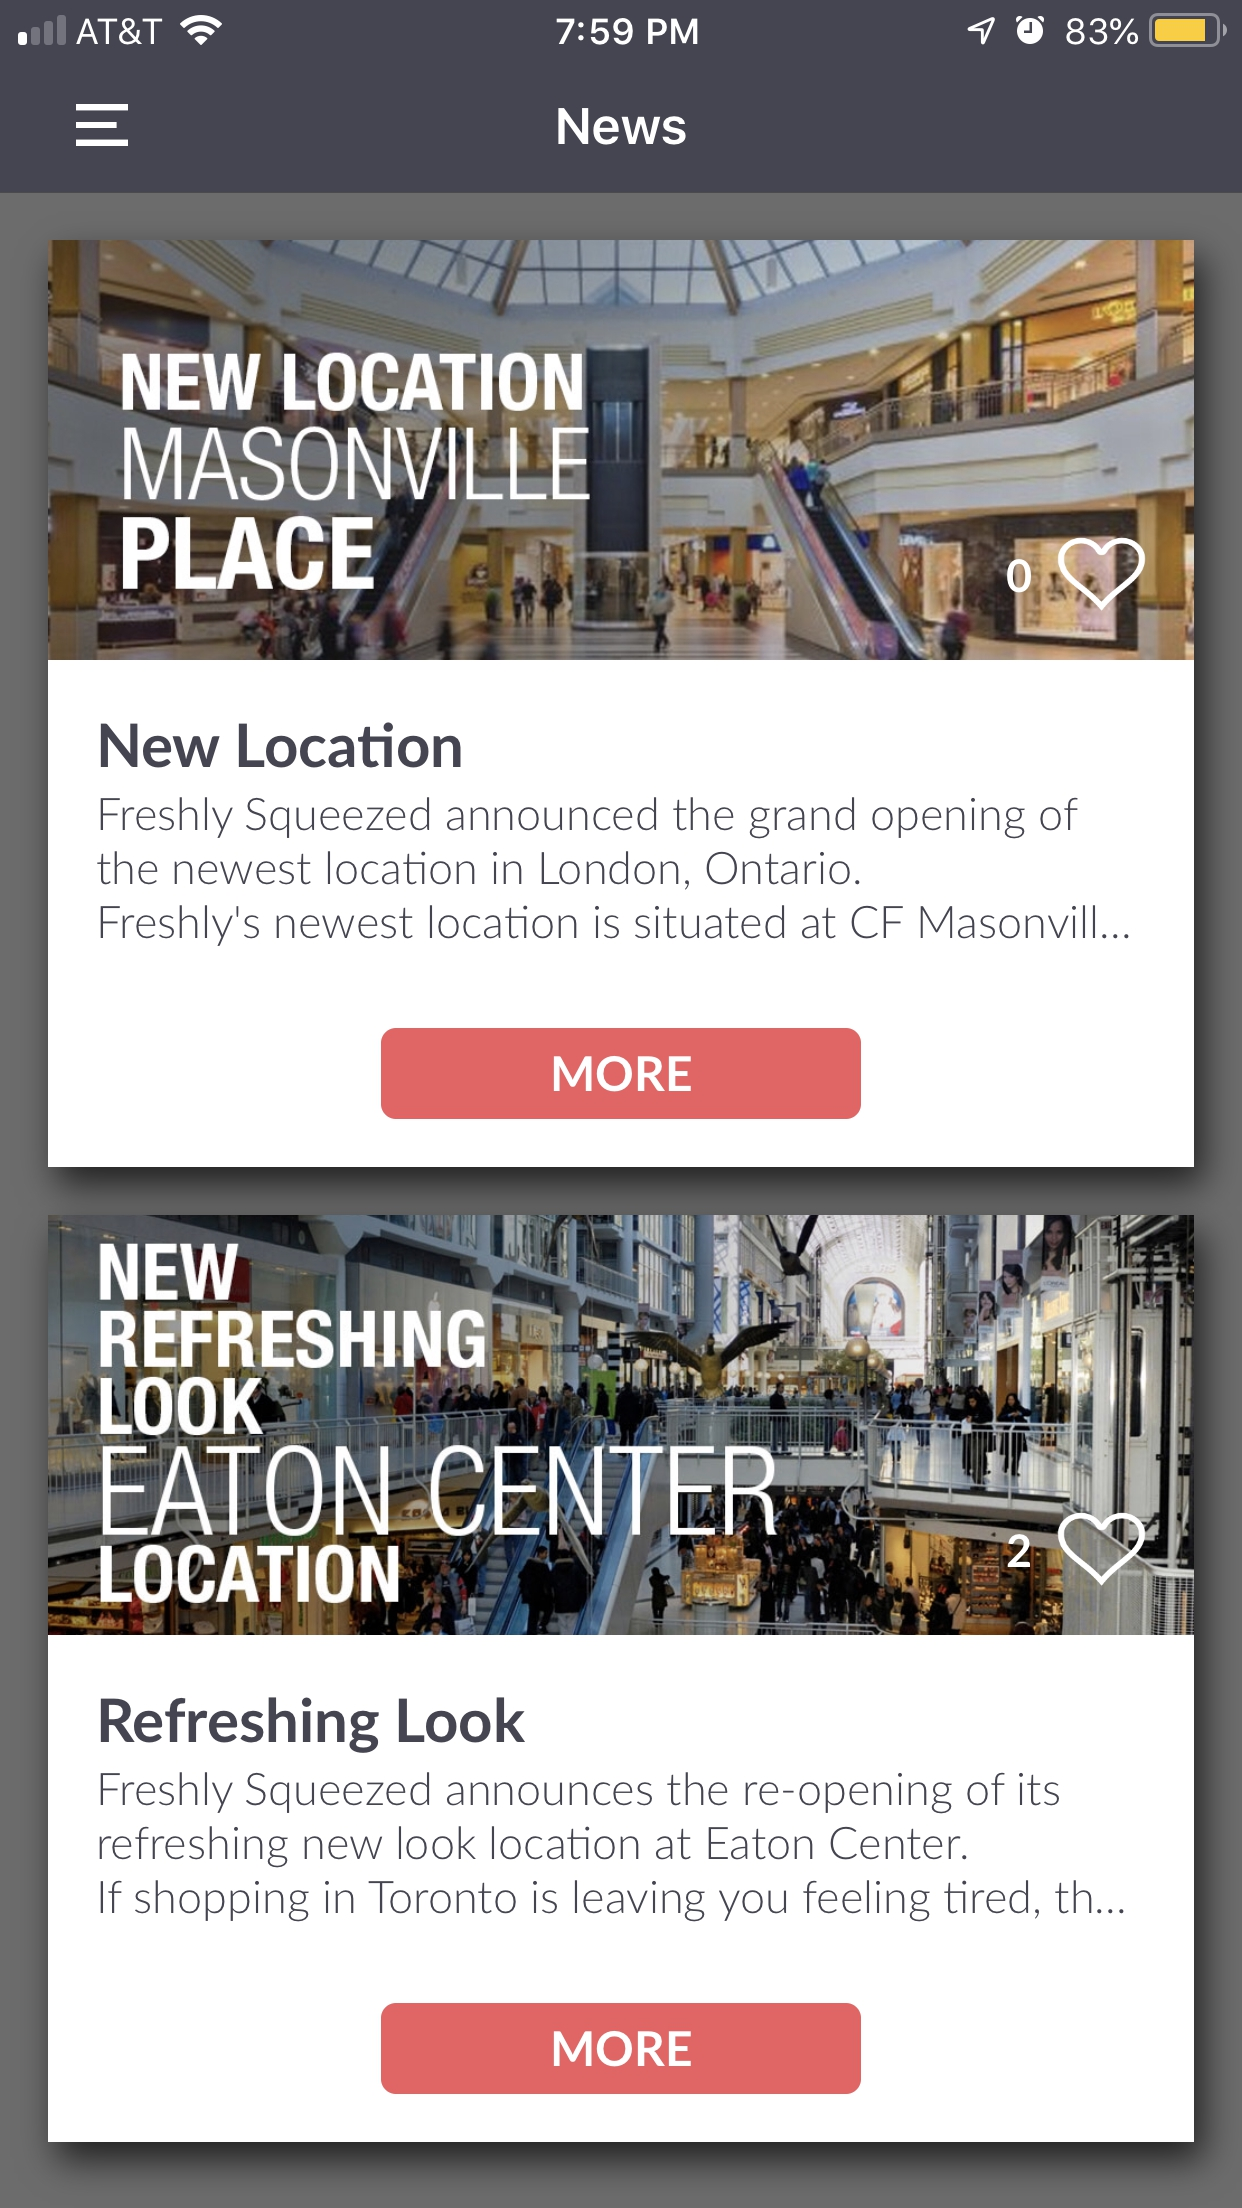Icon: (1057, 537, 1146, 613), (1057, 1512, 1146, 1586), (76, 105, 130, 149)
Image: (49, 240, 1192, 661), (49, 1216, 1193, 1636)
Text: (99, 1244, 778, 1604), (97, 798, 1130, 948), (99, 1771, 1124, 1921), (121, 350, 591, 591), (102, 1695, 528, 1755), (102, 720, 463, 769), (558, 108, 688, 147), (1005, 560, 1033, 594), (1007, 1533, 1031, 1568)
TextButton: (381, 1028, 861, 1121), (381, 2003, 861, 2094)
UpperTaskBar: (2, 2, 1242, 49)
